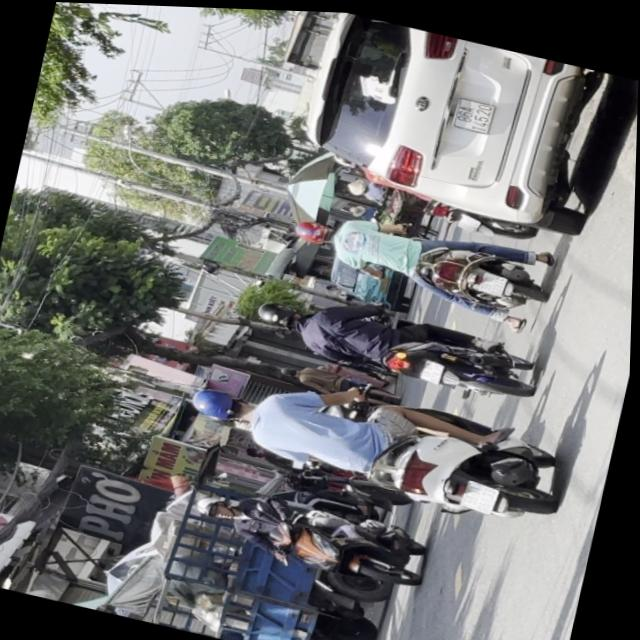helmet: (188, 381, 257, 426), (255, 297, 308, 332), (292, 214, 337, 246), (197, 493, 241, 521)
licenseplate: (177, 347, 580, 536), (247, 277, 546, 408), (282, 191, 559, 328), (188, 476, 438, 592)
nohelmet: (462, 475, 503, 510), (479, 267, 509, 293), (421, 355, 448, 382)
